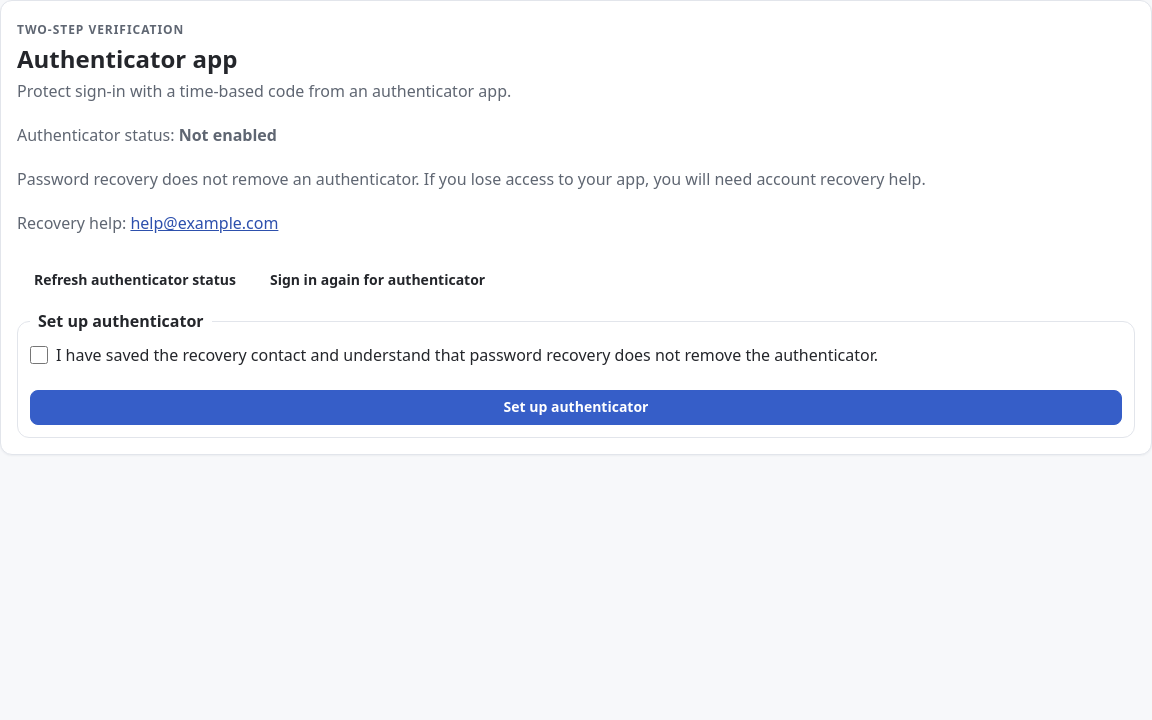
Test: account authenticator controls › clears a refreshed key and lets the owner explicitly cancel the unfinished setup
Expected: the button "Set up authenticator" is enabled, [30, 390, 1122, 425]
Click the checkbox labelled "saved the recovery contact" at [39, 355], box [30, 346, 48, 364]
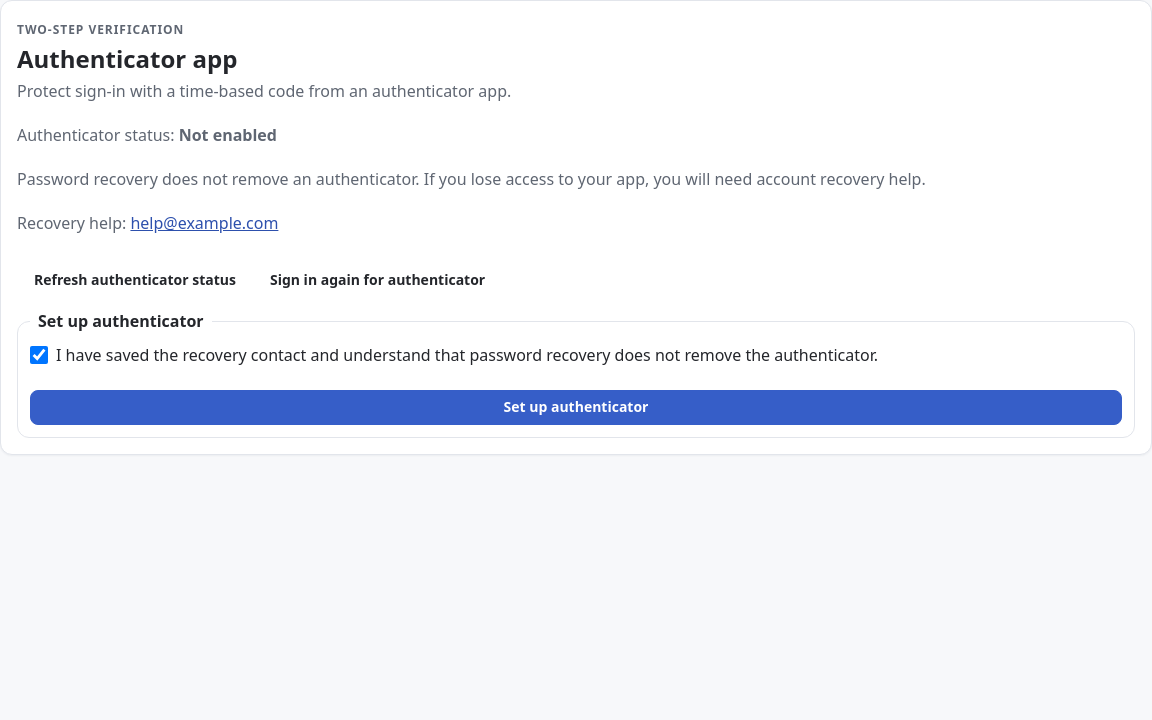
Click the button "Set up authenticator" at [576, 408], box [30, 390, 1122, 425]
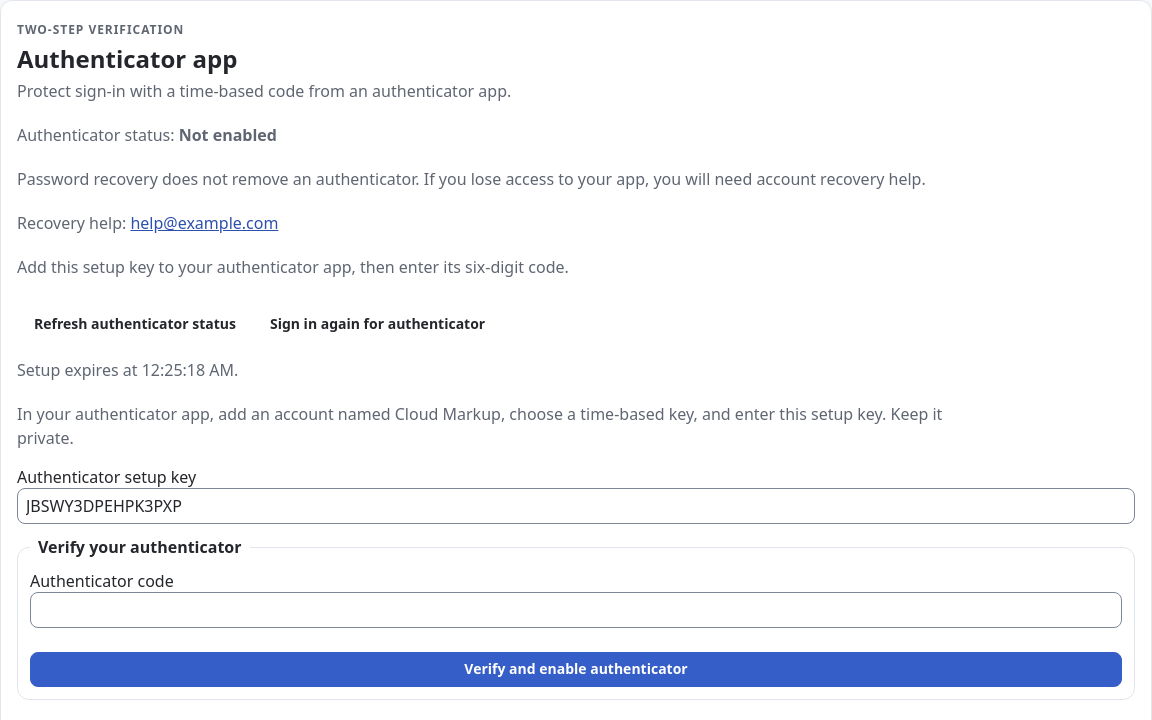
Expected: the field labelled "Authenticator setup key" is shown, [17, 488, 1135, 524]
Click the button "Refresh authenticator status" at [135, 325], box [17, 307, 253, 342]
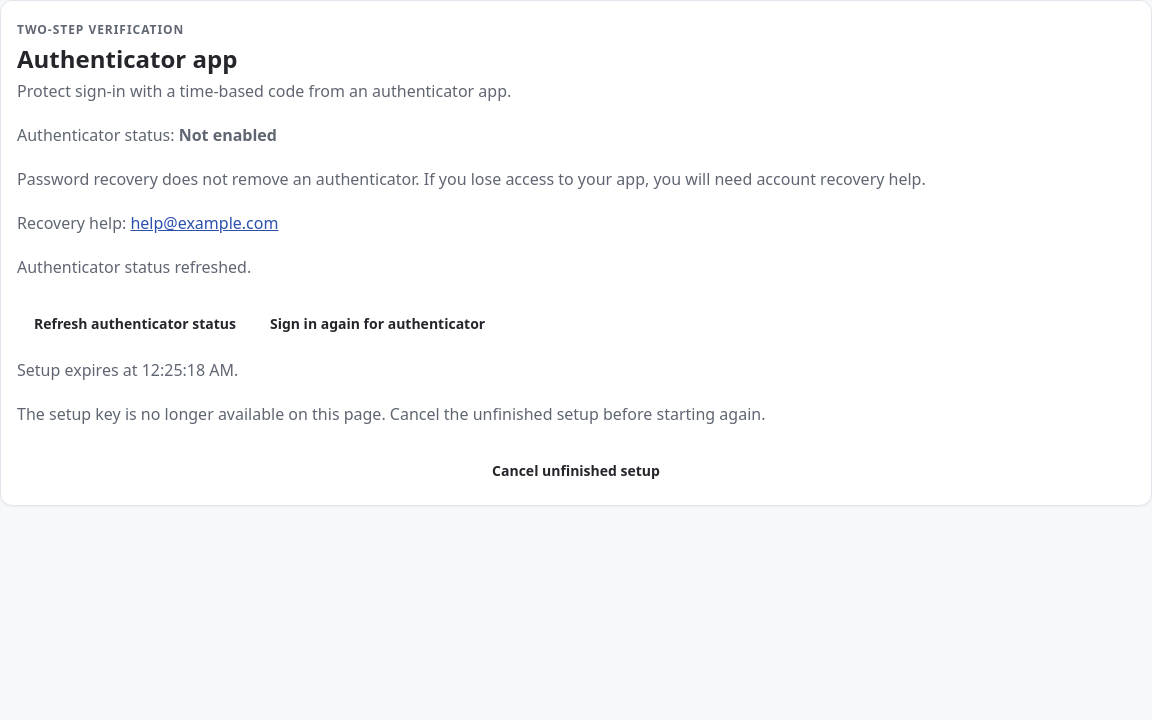
Expected: the text "Authenticator status refreshed." is shown, [17, 256, 251, 278]
Expected: the label labelled "Authenticator setup key" is gone
Click the button "Cancel unfinished setup" at [576, 472], box [17, 454, 1135, 489]
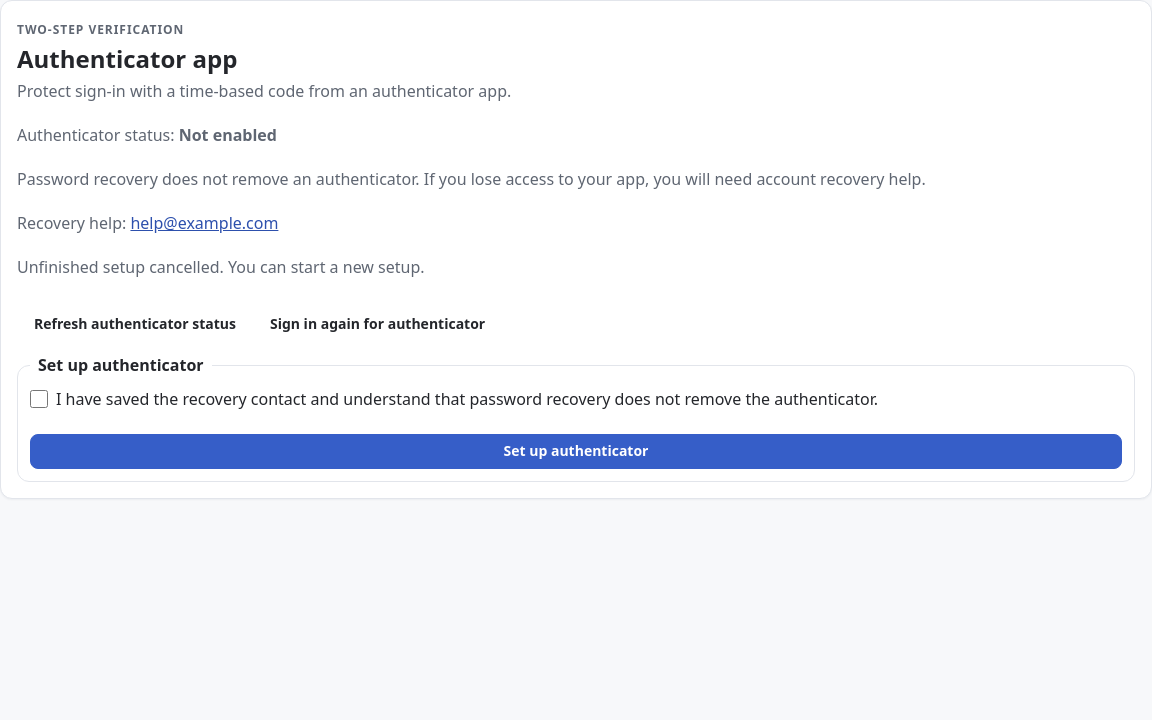
Expected: the text "Unfinished setup cancelled. You can start a new setup." is shown, [17, 256, 425, 278]
